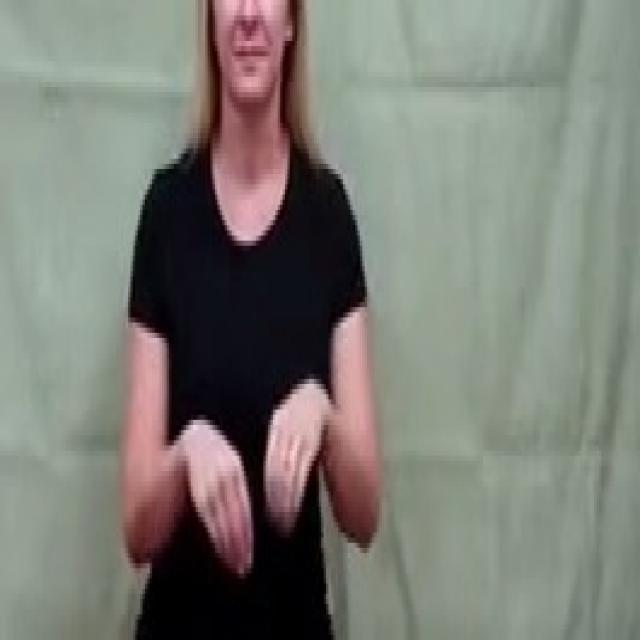ingredients: (186, 381, 338, 592)
